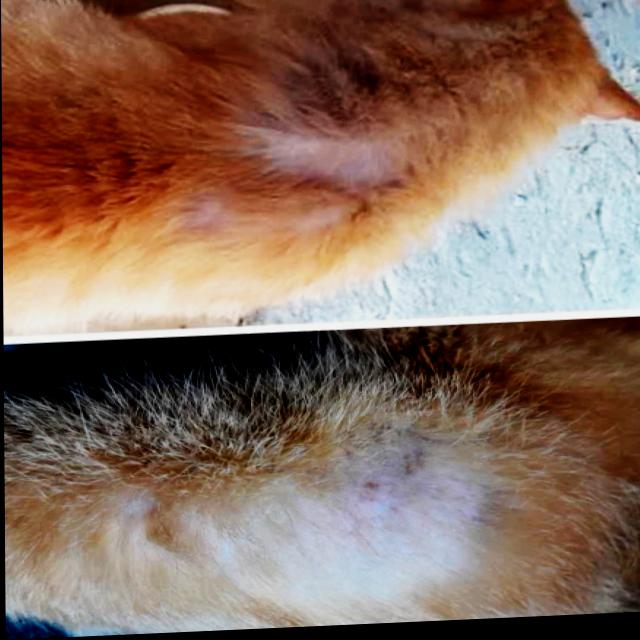hairloss: (271, 469, 463, 574), (251, 120, 377, 186)
